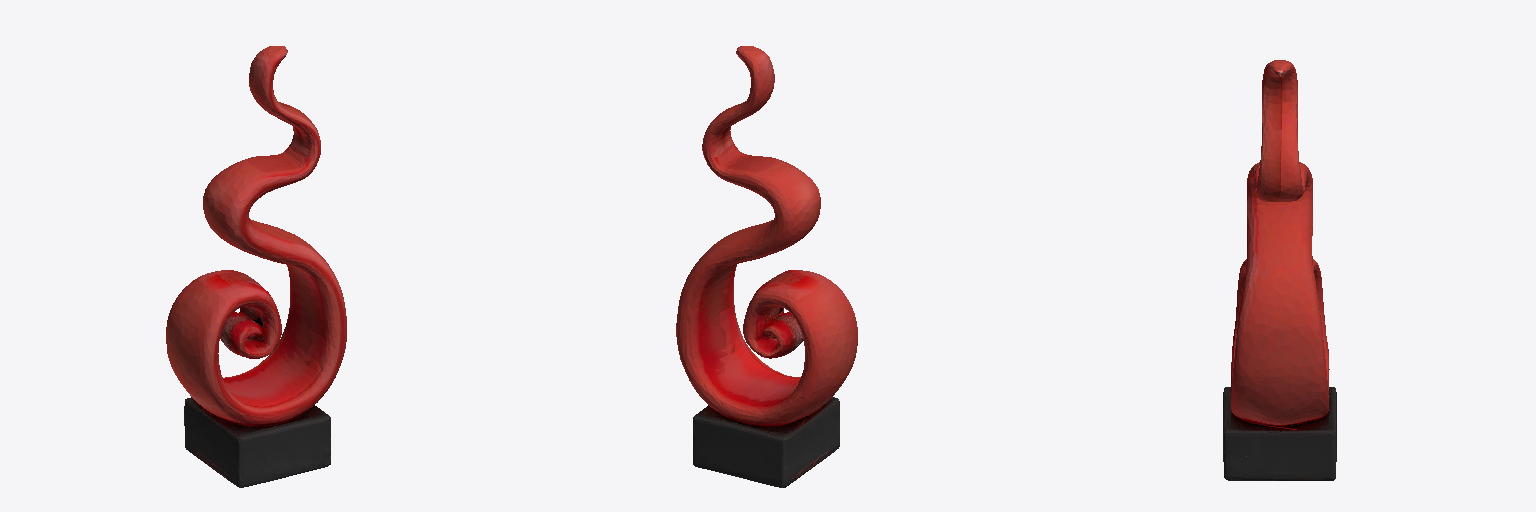
3 renders of one model, left to right at view 1: azimuth 30°, elevation 25°; view 2: azimuth 150°, elevation 25°; view 3: azimuth 270°, elevation 25°, orthographic.
Parts seen in each view (by area): view 1: estatuanueva13; view 2: estatuanueva13; view 3: estatuanueva13.
Part boxes in pixels (x1,y1,x2,y2): estatuanueva13: (166, 46, 346, 487); estatuanueva13: (676, 46, 857, 487); estatuanueva13: (1223, 60, 1336, 480).
Bounding box in the file's own units: 4.64 × 11.7 × 2.96.
1 materials, 1 textured.